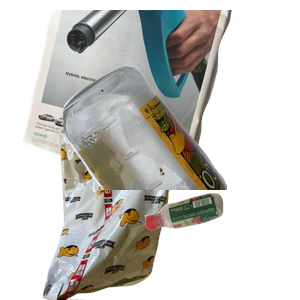glass: (60, 63, 300, 243)
paper: (20, 10, 244, 190)
plastic: (142, 191, 300, 300)
trash: (25, 120, 198, 300)
